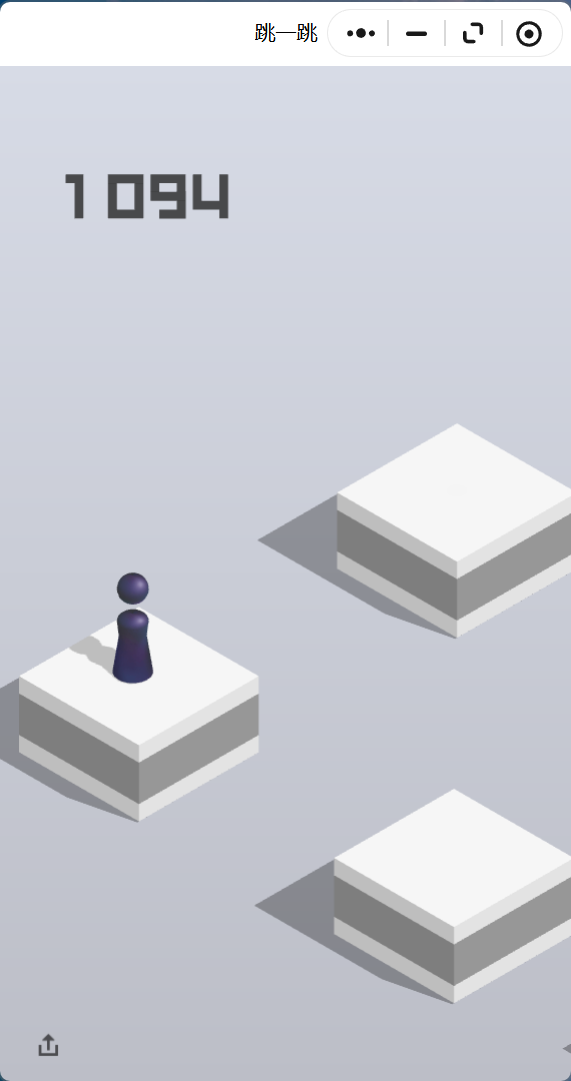piece: (118, 573, 148, 679)
target: (337, 424, 571, 561)
